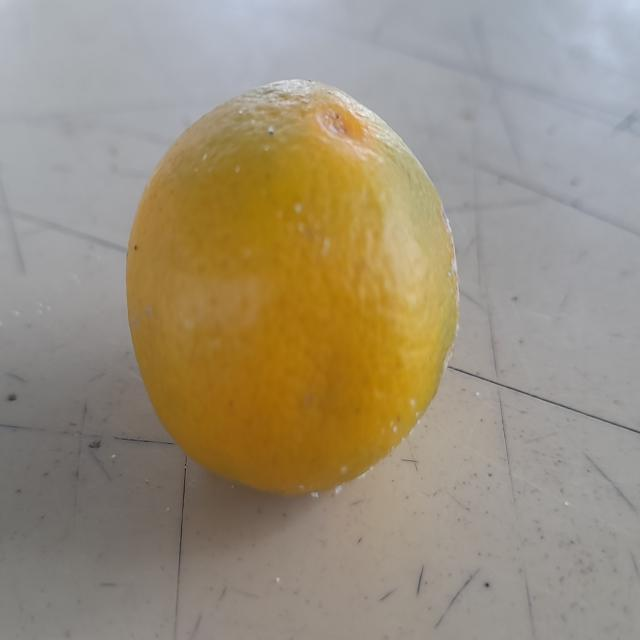greening: (131, 83, 456, 493)
